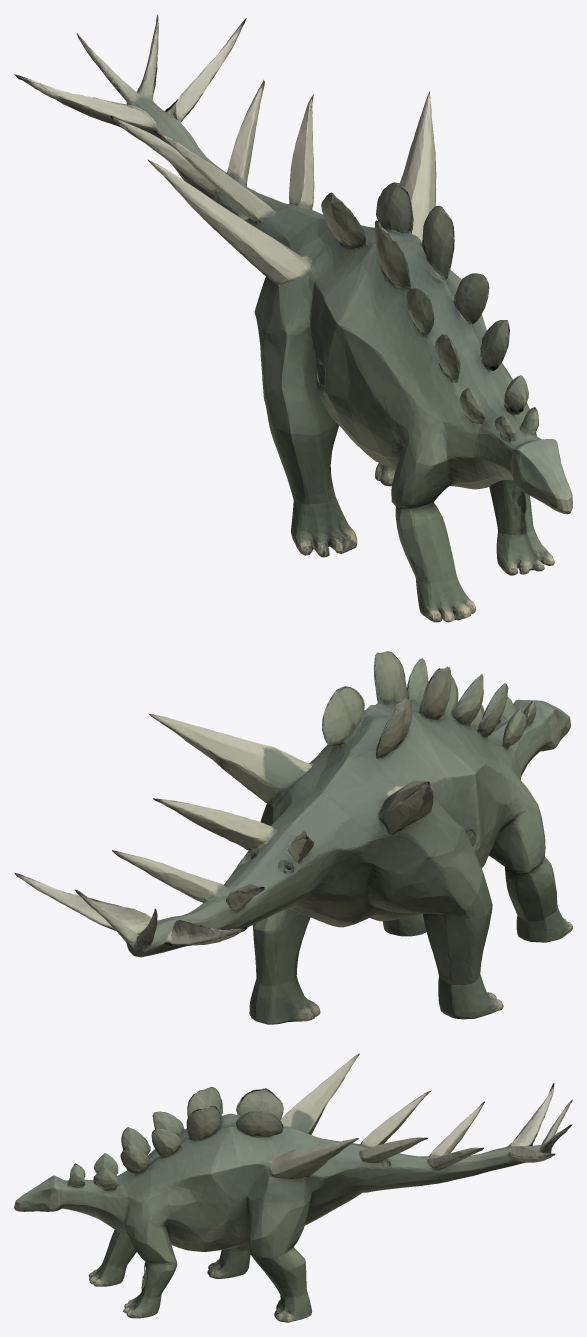
The picture shows the model from 3 angles, top to bottom: view 1: azimuth 30°, elevation 25°; view 2: azimuth 150°, elevation 25°; view 3: azimuth 270°, elevation 25°; orthographic projection. The views are drawn at different scales.
Visible parts, largest first — view 1: world; view 2: world; view 3: world.
Part boxes in pixels (x1,y1,x2,y2): world: (14, 15, 572, 622); world: (14, 651, 572, 1024); world: (14, 1053, 572, 1322).
Size of the model in its own units: 0.3587 by 0.3944 by 0.9983.
Materials: 1 (1 with a texture image).
